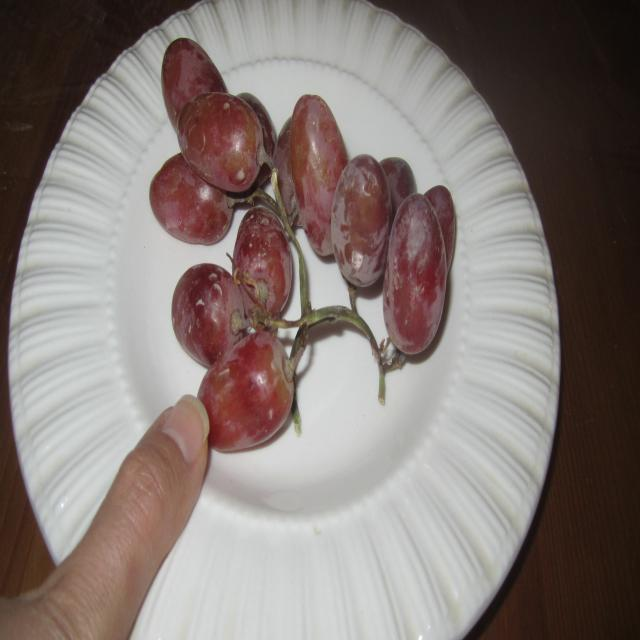Finger: (107, 396, 213, 578)
Grapes: (146, 21, 459, 397)
